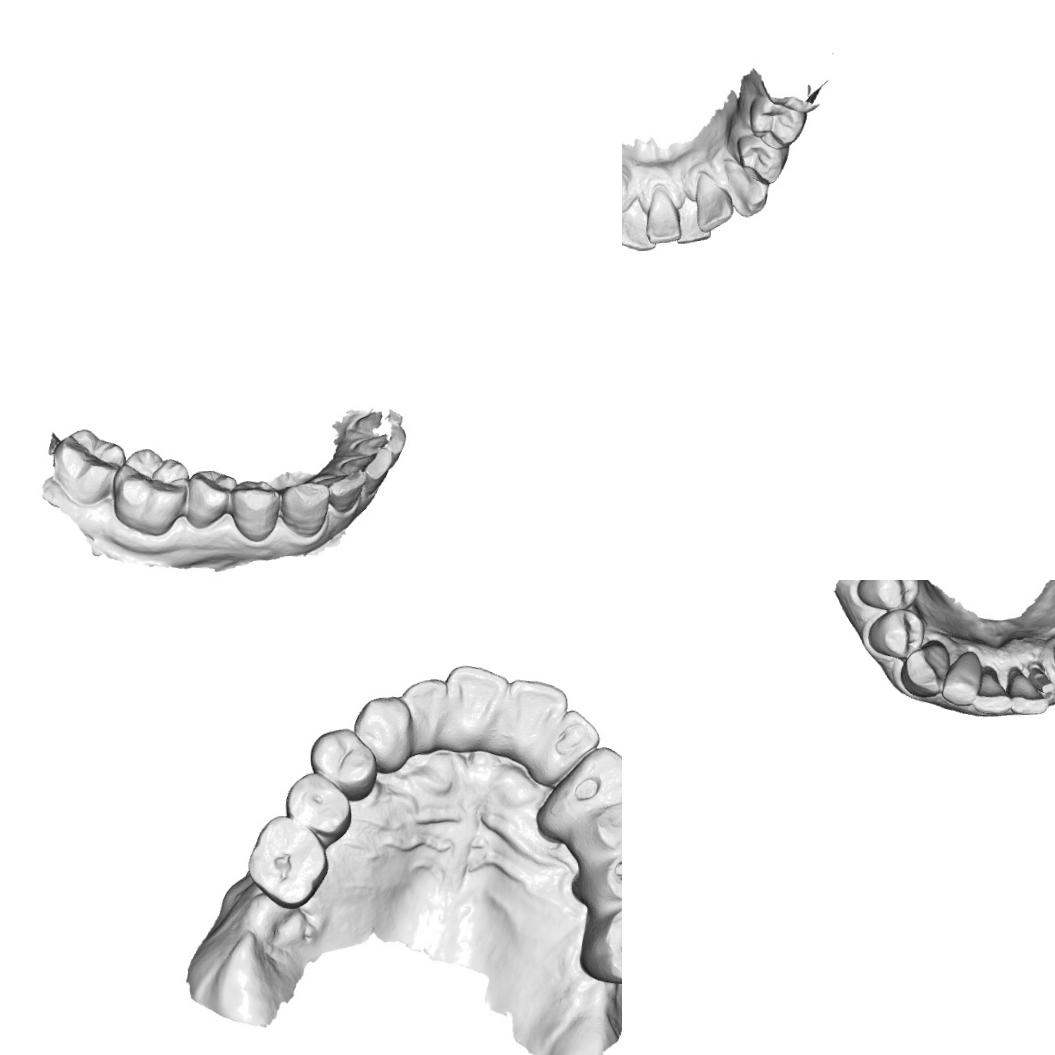abutment: (1026, 659, 1054, 694)
canine: (547, 744, 622, 823), (351, 694, 414, 768), (278, 477, 334, 540), (898, 642, 952, 698), (728, 166, 771, 218)
incisor: (442, 662, 511, 734), (494, 674, 570, 735), (400, 676, 449, 740), (546, 706, 602, 762), (938, 648, 984, 706), (312, 468, 370, 513), (336, 446, 395, 490), (694, 181, 734, 232), (969, 668, 1011, 716), (643, 203, 681, 244), (622, 206, 654, 253), (674, 204, 711, 244), (1008, 688, 1049, 717)
molar: (245, 810, 329, 910), (108, 443, 192, 538), (48, 423, 128, 508), (571, 898, 622, 986)
premolar: (305, 724, 380, 803), (282, 770, 350, 841), (182, 464, 240, 532), (228, 475, 284, 544), (748, 93, 810, 150), (864, 606, 927, 660), (734, 128, 792, 186), (574, 844, 622, 909), (572, 794, 622, 855), (853, 580, 920, 611)
